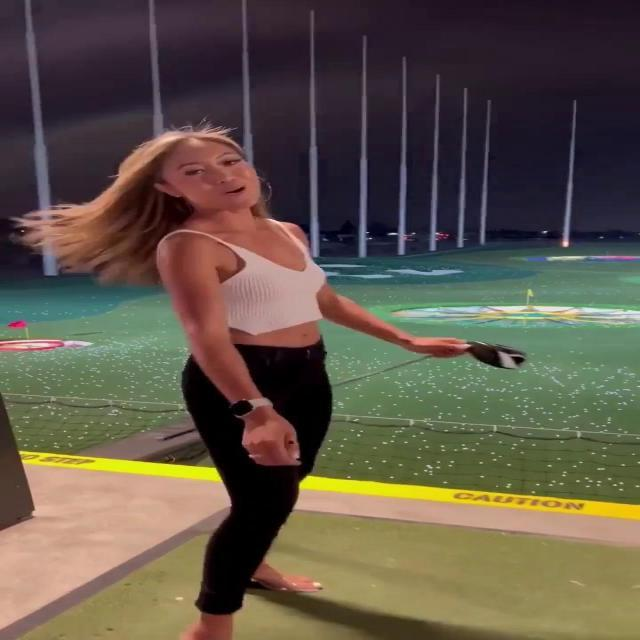golf club-handle: (156, 341, 526, 442)
golf club-head: (467, 341, 527, 369)
